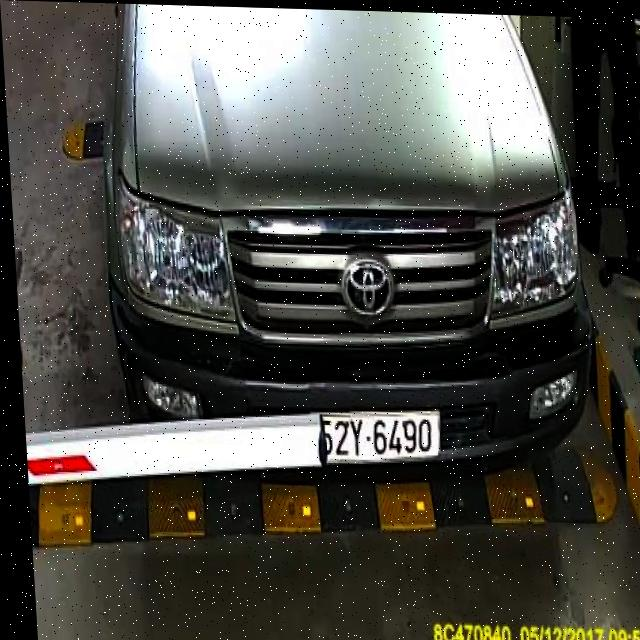car: (93, 3, 608, 497)
plate: (301, 397, 445, 479)
